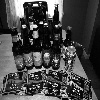beer: (8, 26, 27, 74)
